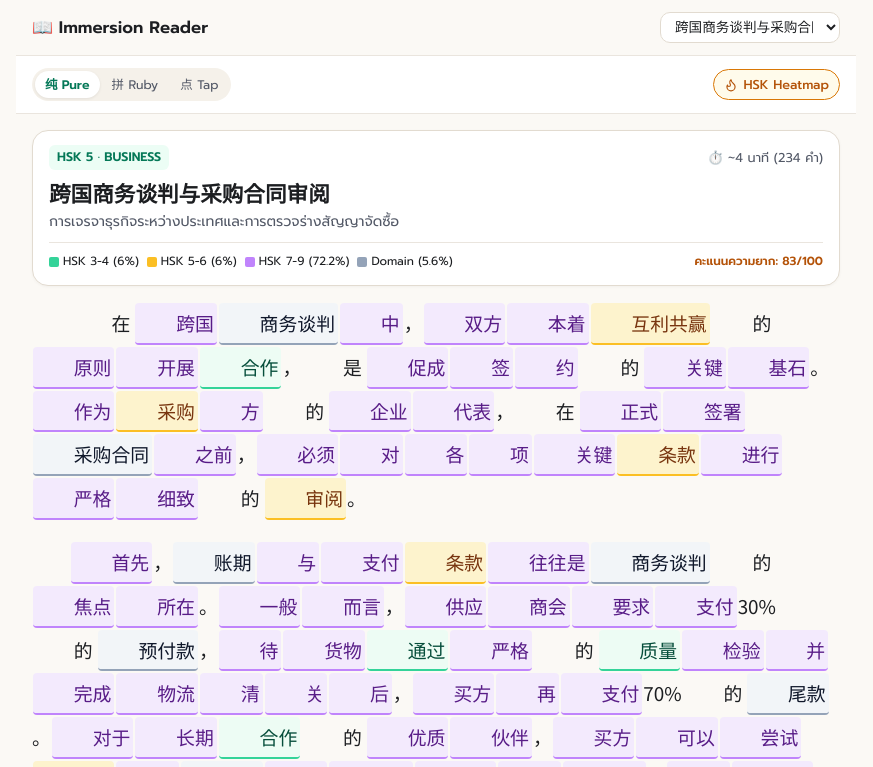
Scenario: ImmersionArticleReader Component › switches between Pinyin modes and renders ruby tags in ruby mode
Click the radio button labelled "拼 Ruby" at {"x": 135, "y": 84}, box [102,71,168,98]
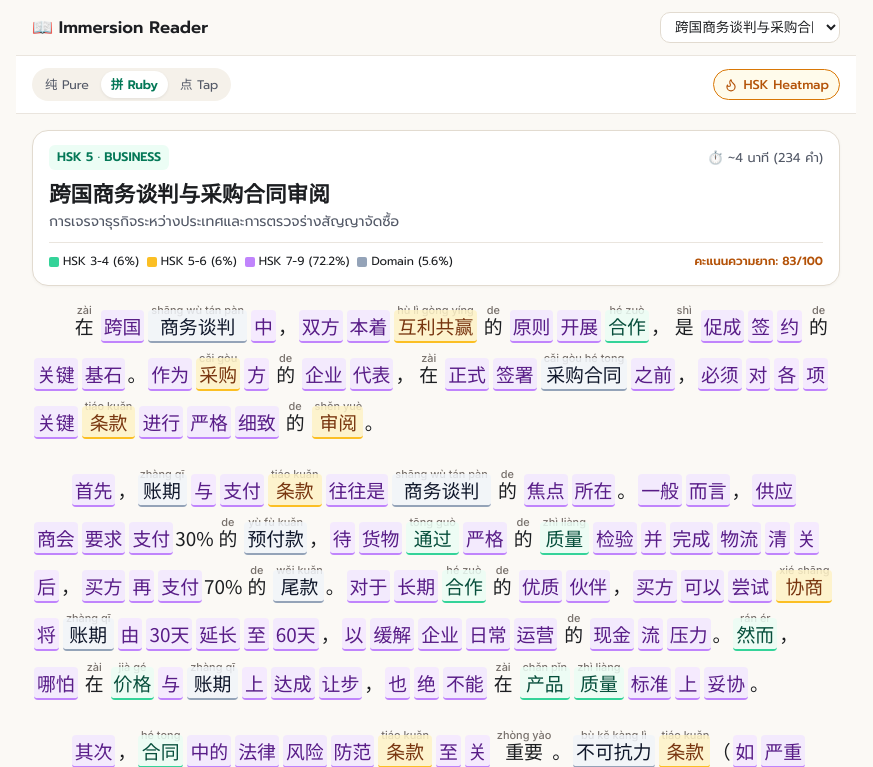
Check: the 1st element showing "在 zài" is shown, box [75,303,94,339]
Check: the 1st text "zài" is shown, box [75,303,94,317]
